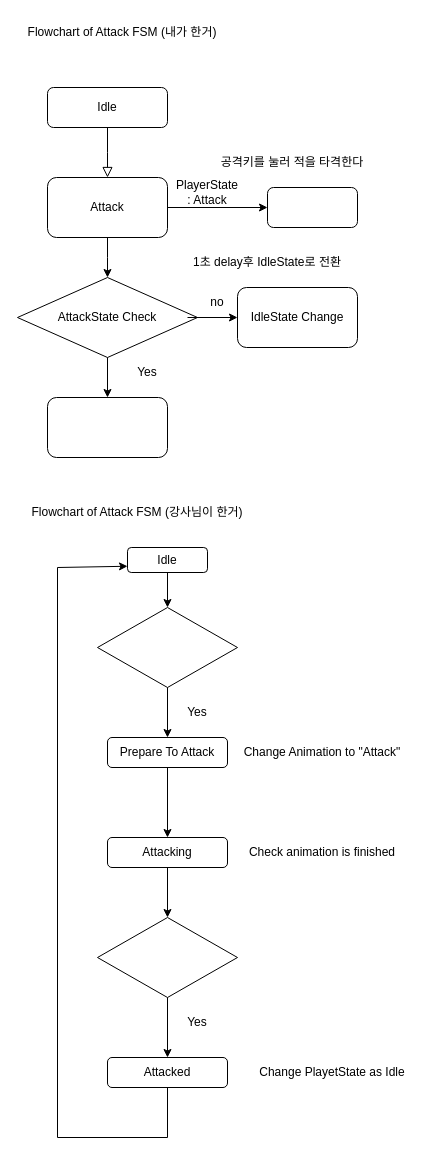
The diagram is 445 pixels wide and 1163 high, and some of its shapes have lost their labels. Each missing label, with the box of its shape:
Attack Key Input: (96, 606, 238, 688)
AttackState: (46, 396, 168, 458)
Is animation finished?: (96, 916, 238, 998)
공격 모션 상태: (266, 186, 358, 228)
